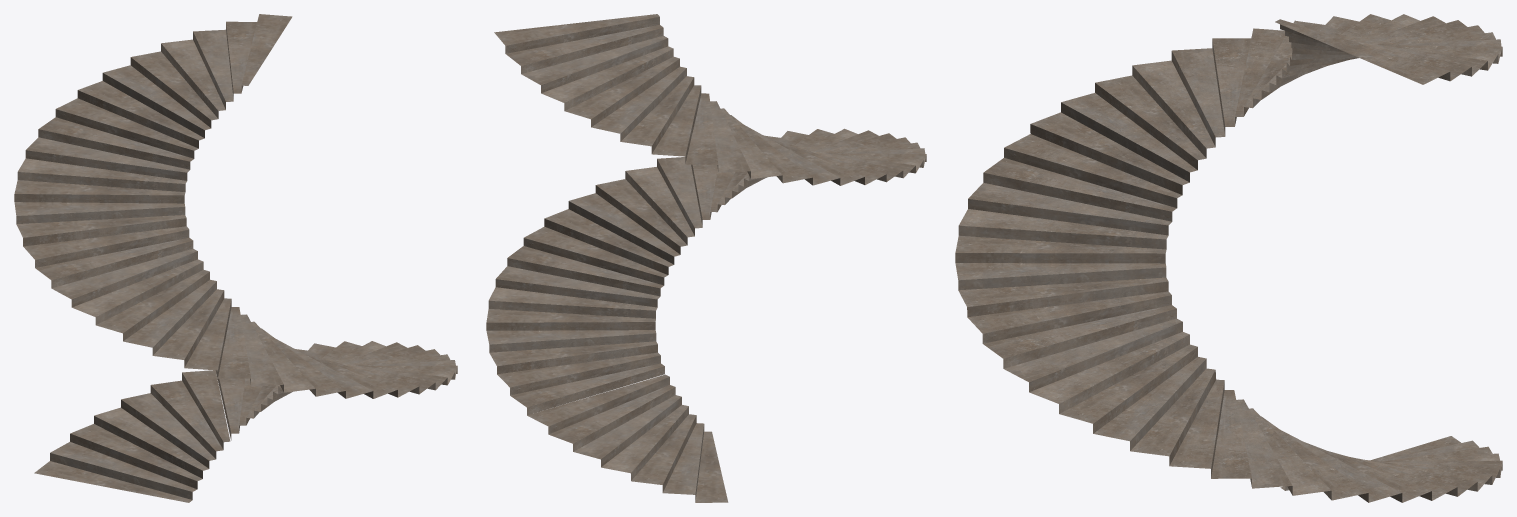
The model's file is StoneTowerStair.fbx.
The picture shows the model from 3 angles, left to right: view 1: azimuth 30°, elevation 25°; view 2: azimuth 150°, elevation 25°; view 3: azimuth 270°, elevation 25°; orthographic projection. The views are drawn at different scales.
Parts seen in each view (by area): view 1: CastleTower.016; view 2: CastleTower.016; view 3: CastleTower.016.
Part boxes in pixels (x1,y1,x2,y2): CastleTower.016: (14, 14, 457, 502); CastleTower.016: (486, 14, 926, 502); CastleTower.016: (955, 14, 1502, 502).
Size of the model in its own units: 5.19 by 5.24 by 5.2.
